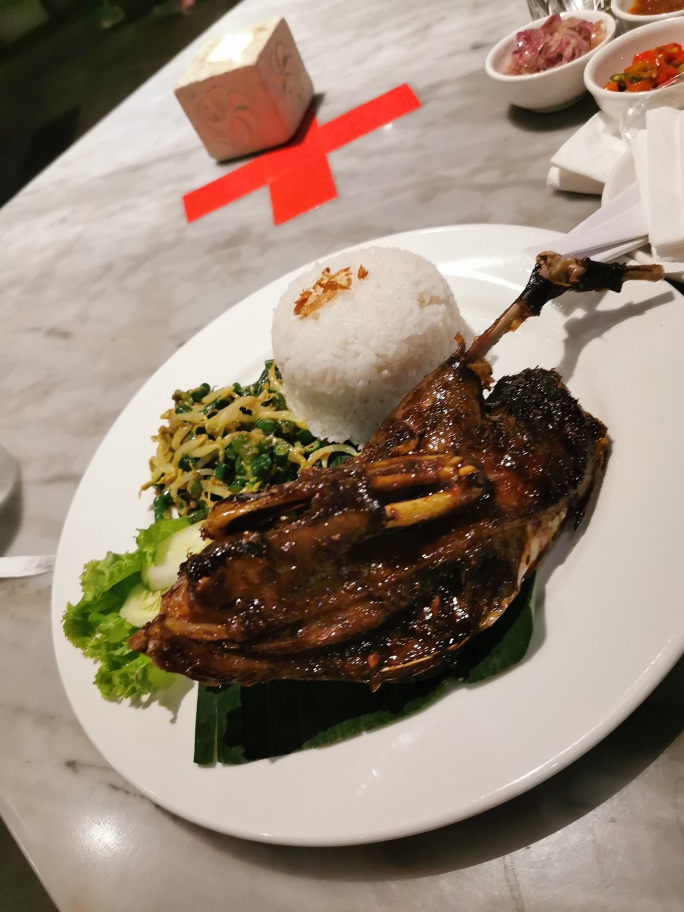bebek bakar: (118, 256, 666, 690)
nasi putih: (263, 239, 463, 439)
